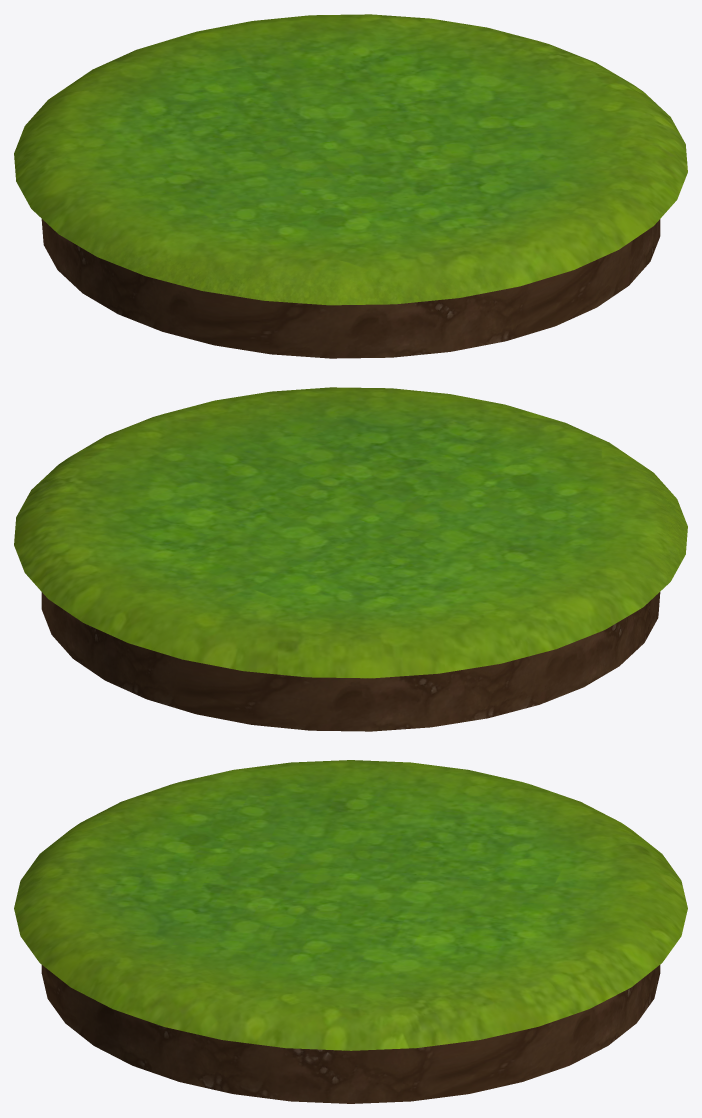
File: block.03.fbx
The picture shows the model from 3 angles, top to bottom: view 1: azimuth 30°, elevation 25°; view 2: azimuth 150°, elevation 25°; view 3: azimuth 270°, elevation 25°; orthographic projection.
Parts seen in each view (by area): view 1: Cylinder; view 2: Cylinder; view 3: Cylinder.
Boxes of the visible parts, left/top/right/bottom form: Cylinder: left=14, top=14, right=687, bottom=358; Cylinder: left=14, top=387, right=687, bottom=731; Cylinder: left=14, top=760, right=687, bottom=1103.
Bounding box in the file's own units: 872 × 124 × 872.
1 material, 1 textured.
